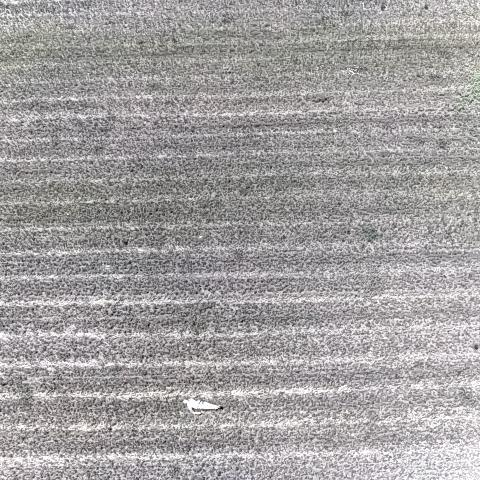person: (181, 397, 222, 416)
